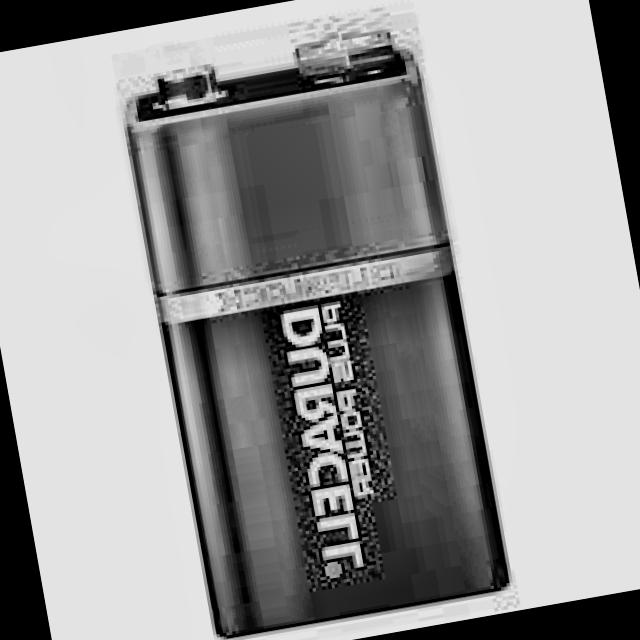Battery: (121, 25, 508, 640)
